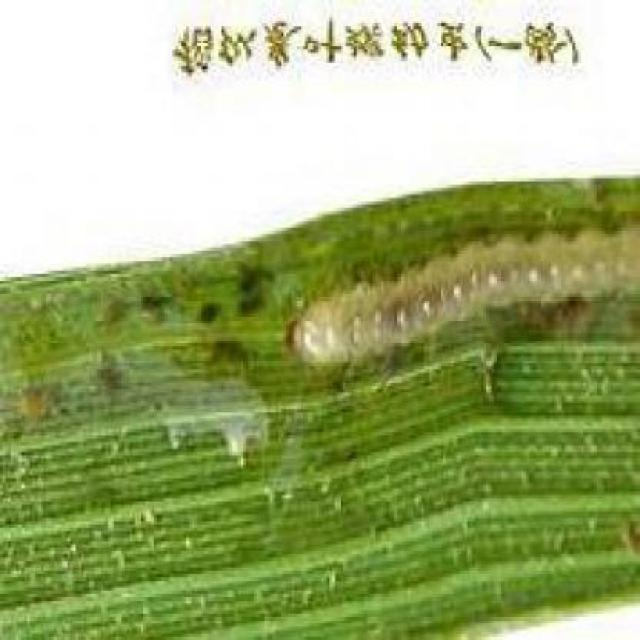leaf-folder: (266, 166, 640, 412)
